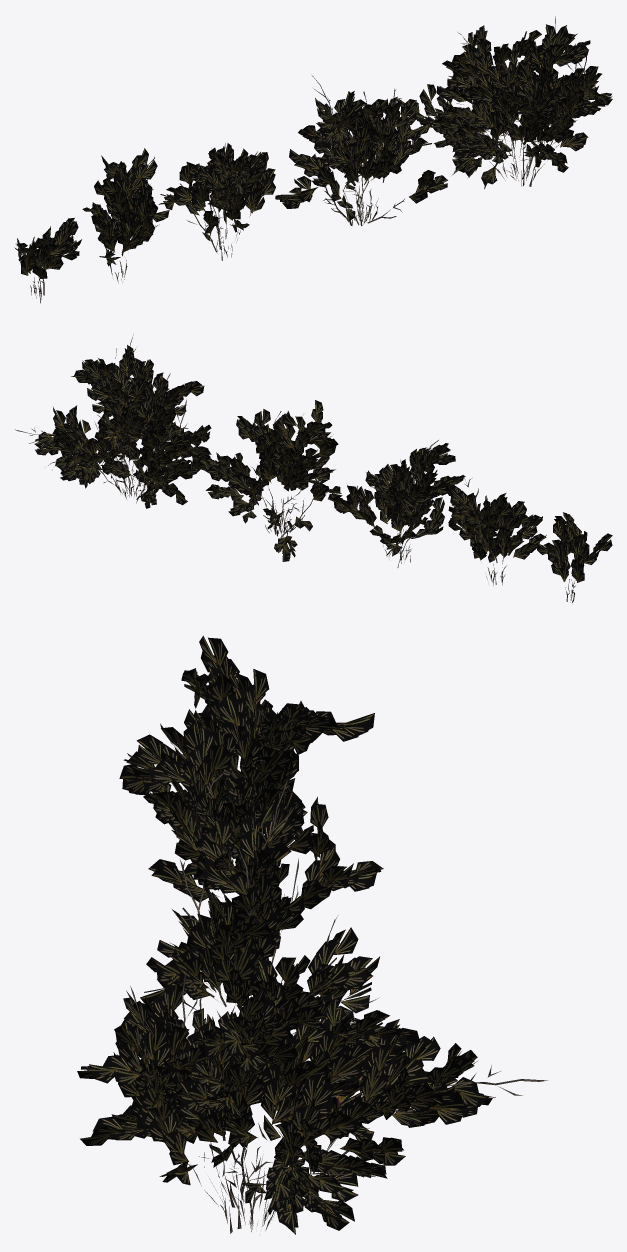
File: wild_rooibos_bush.glb
3 views of the same model, one above another, from view 1: azimuth 30°, elevation 25°; view 2: azimuth 150°, elevation 25°; view 3: azimuth 270°, elevation 25° (orthographic). The views are drawn at different scales.
Parts seen in each view (by area): view 1: wild_rooibos_bush_a, wild_rooibos_bush_b, wild_rooibos_bush_c, wild_rooibos_bush_d, wild_rooibos_bush_e; view 2: wild_rooibos_bush_a, wild_rooibos_bush_b, wild_rooibos_bush_c, wild_rooibos_bush_d, wild_rooibos_bush_e; view 3: wild_rooibos_bush_a, wild_rooibos_bush_b, wild_rooibos_bush_c, wild_rooibos_bush_d, wild_rooibos_bush_e.
Boxes of the visible parts, <box> form: wild_rooibos_bush_a: <box>397,16,612,189</box>; wild_rooibos_bush_b: <box>275,75,447,226</box>; wild_rooibos_bush_c: <box>158,143,275,260</box>; wild_rooibos_bush_d: <box>82,148,169,283</box>; wild_rooibos_bush_e: <box>14,218,81,303</box>; wild_rooibos_bush_a: <box>15,335,218,508</box>; wild_rooibos_bush_b: <box>206,400,342,561</box>; wild_rooibos_bush_c: <box>328,440,465,567</box>; wild_rooibos_bush_d: <box>445,475,546,585</box>; wild_rooibos_bush_e: <box>537,512,612,602</box>; wild_rooibos_bush_a: <box>77,959,548,1234</box>; wild_rooibos_bush_b: <box>140,780,379,1038</box>; wild_rooibos_bush_c: <box>119,719,383,963</box>; wild_rooibos_bush_d: <box>160,669,374,862</box>; wild_rooibos_bush_e: <box>181,635,272,755</box>.
Size of the model in its own units: 2.27 by 0.5439 by 0.8433.
3 materials, 3 textured.
